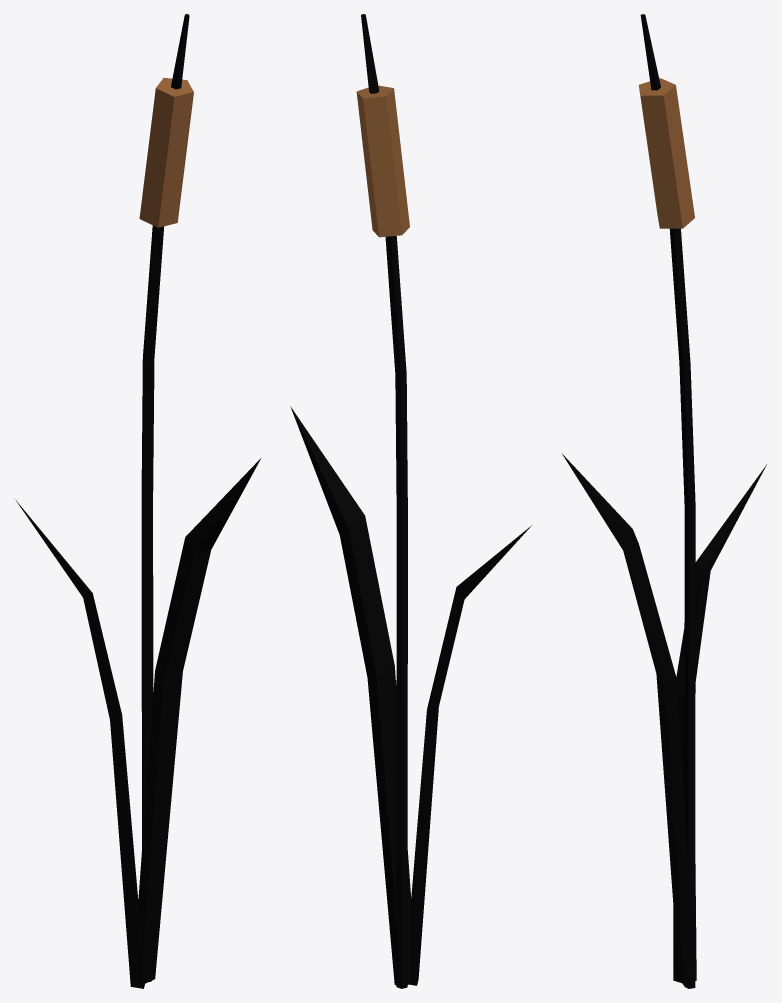
The model's file is Reed_1_Middle.fbx.
3 views of the same model, side by side, from view 1: azimuth 30°, elevation 25°; view 2: azimuth 210°, elevation 25°; view 3: azimuth 270°, elevation 25° (orthographic). The views are drawn at different scales.
Parts seen in each view (by area): view 1: Reed_1_Middle; view 2: Reed_1_Middle; view 3: Reed_1_Middle.
Part boxes in pixels (<box>): Reed_1_Middle: <box>14,14,260,988</box>; Reed_1_Middle: <box>290,14,531,988</box>; Reed_1_Middle: <box>562,14,766,988</box>.
Bounding box in the file's own units: 0.0549 × 0.3547 × 0.0678.
